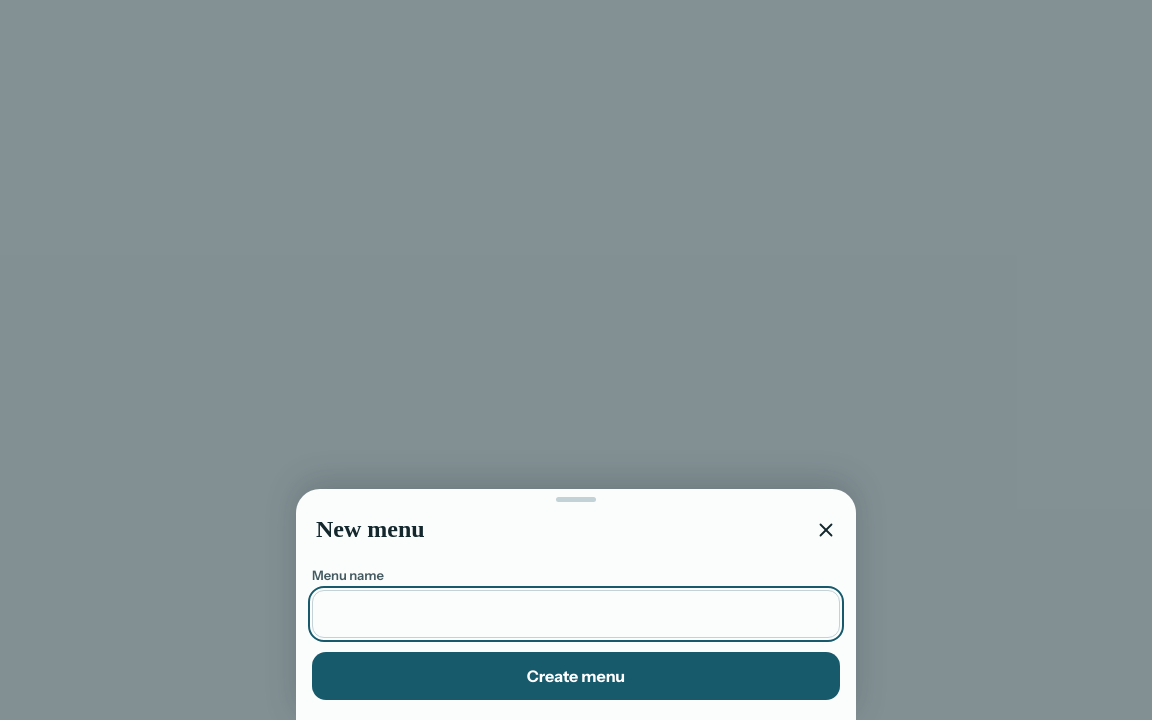
Scenario: NameSheet › disables the button while saving
In the field labelled "Menu name": (576, 614) top-left (312, 590), bottom-right (840, 638), type "Patio"
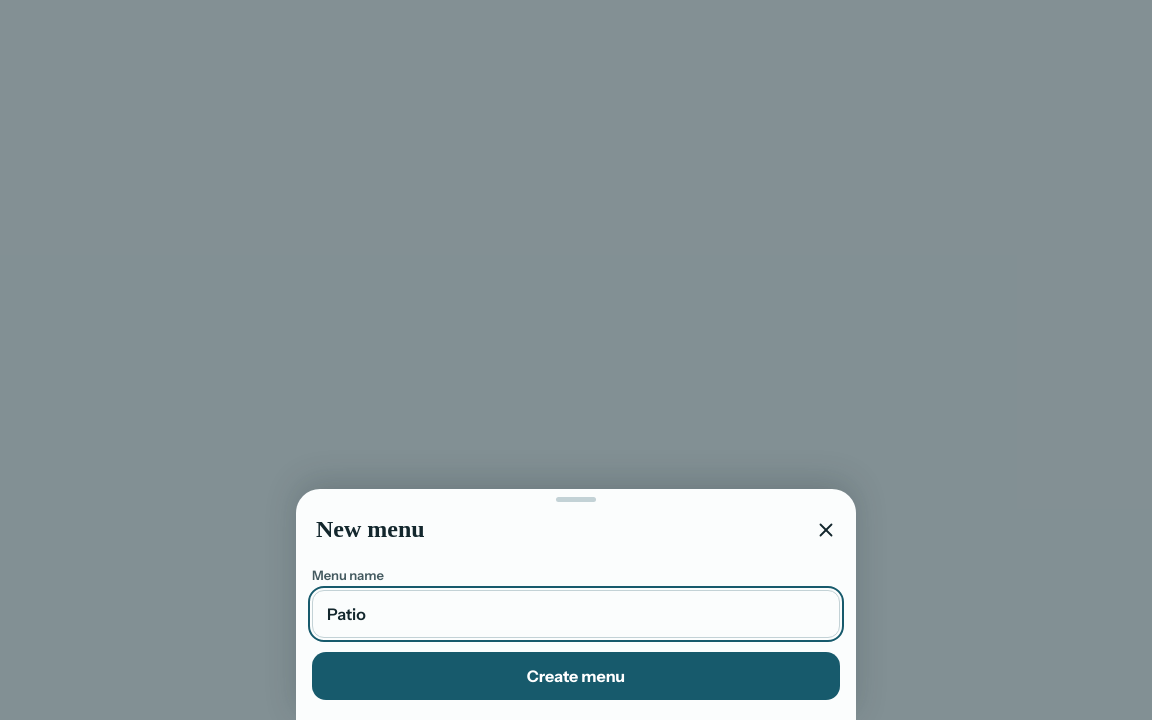
Click the button "Create menu": (576, 676) top-left (312, 652), bottom-right (840, 700)
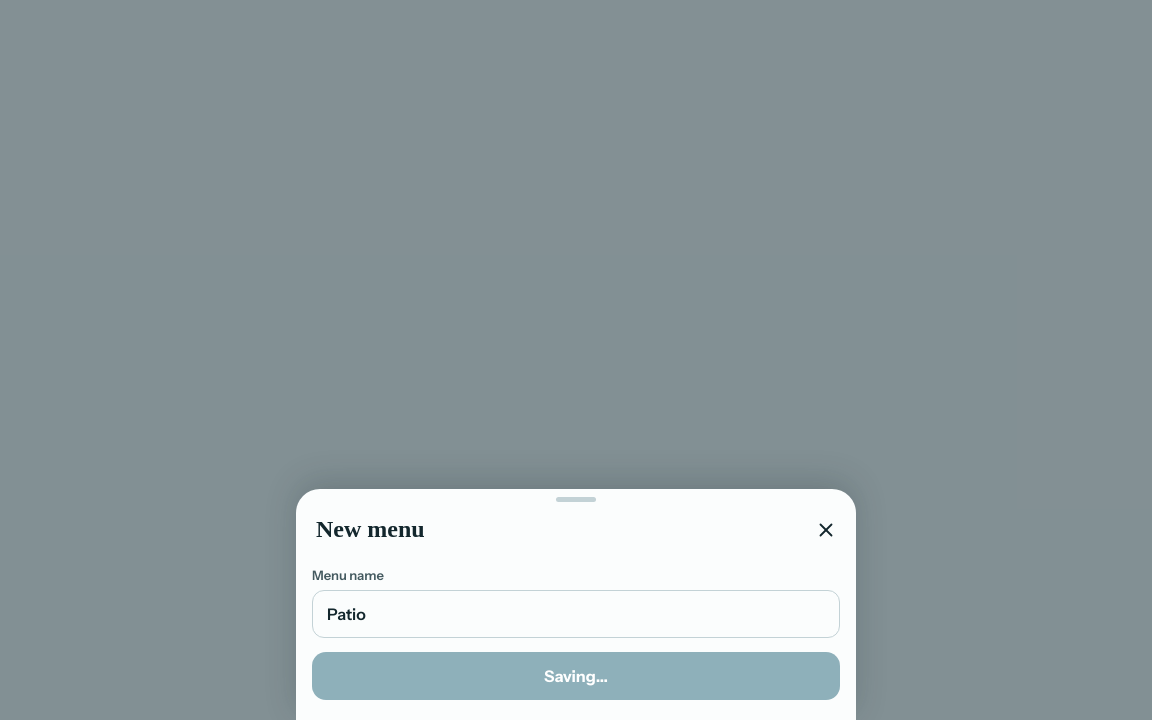
Expected: the button "Saving…" is disabled, top-left (312, 652), bottom-right (840, 700)
